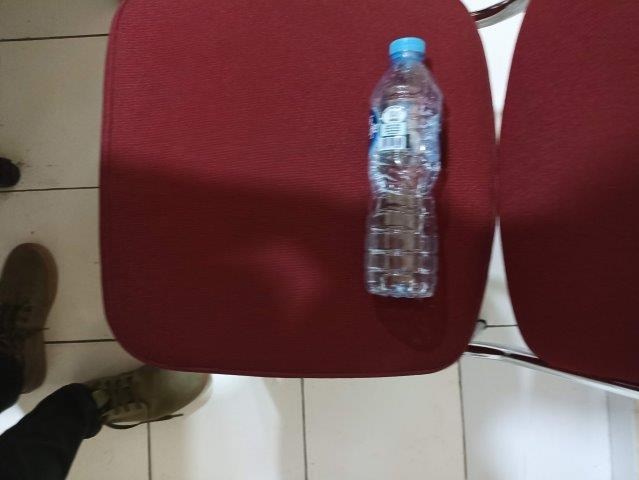botolplastik: (361, 37, 442, 306)
